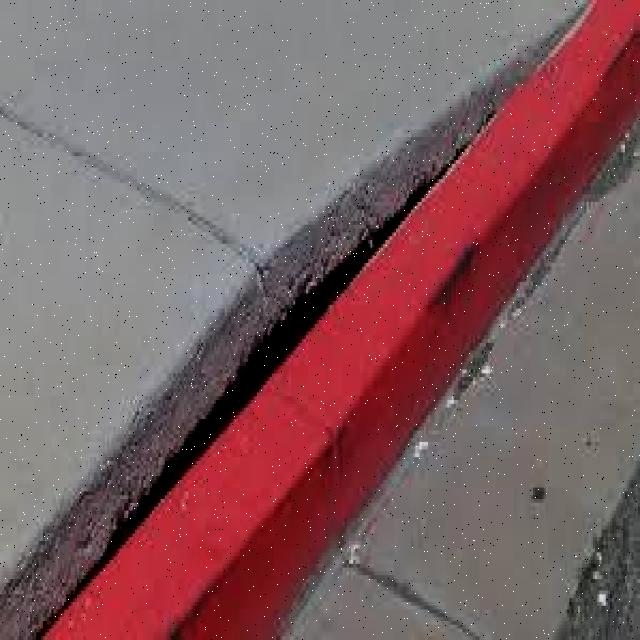curb: (167, 144, 414, 557), (42, 506, 346, 632), (427, 100, 558, 365), (537, 4, 638, 217)
